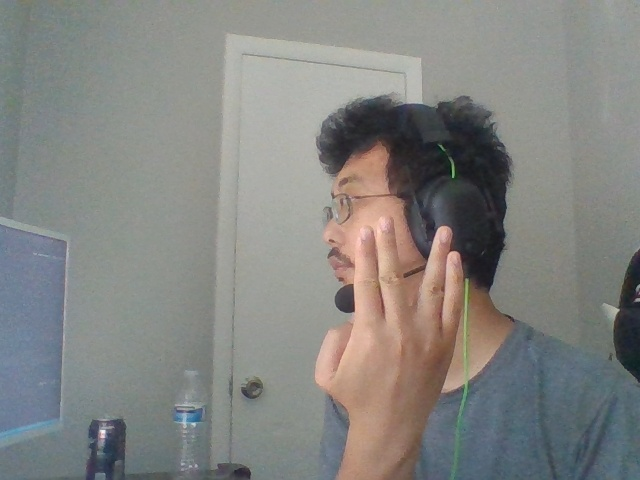LiveLong: (313, 214, 465, 424)
